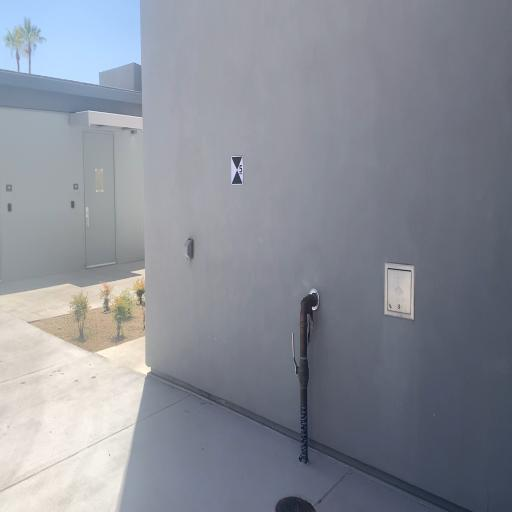target5: (231, 156, 244, 184)
